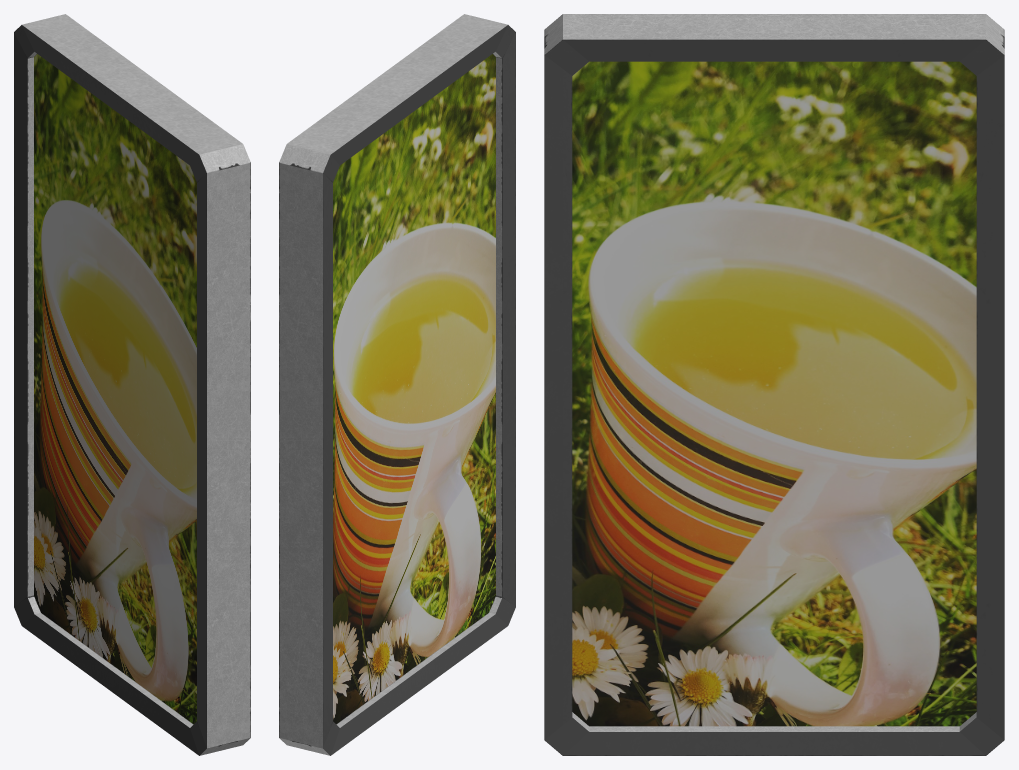
Rendered from Panel08a.FBX.
The picture shows the model from 3 angles, left to right: view 1: azimuth 30°, elevation 25°; view 2: azimuth 150°, elevation 25°; view 3: azimuth 270°, elevation 25°; orthographic projection. The views are drawn at different scales.
Visible parts, largest first — view 1: Panel08a; view 2: Panel08a; view 3: Panel08a.
Part boxes in pixels (<box>): Panel08a: <box>14,14,250,755</box>; Panel08a: <box>279,14,515,755</box>; Panel08a: <box>544,14,1004,755</box>.
Bounding box in the file's own units: 138 × 1803 × 1049.
